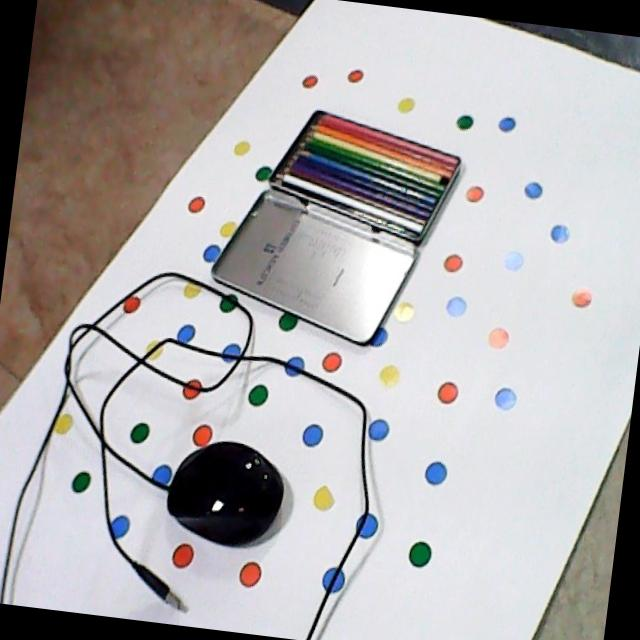color: (264, 101, 469, 252)
mouse: (159, 436, 290, 556)
